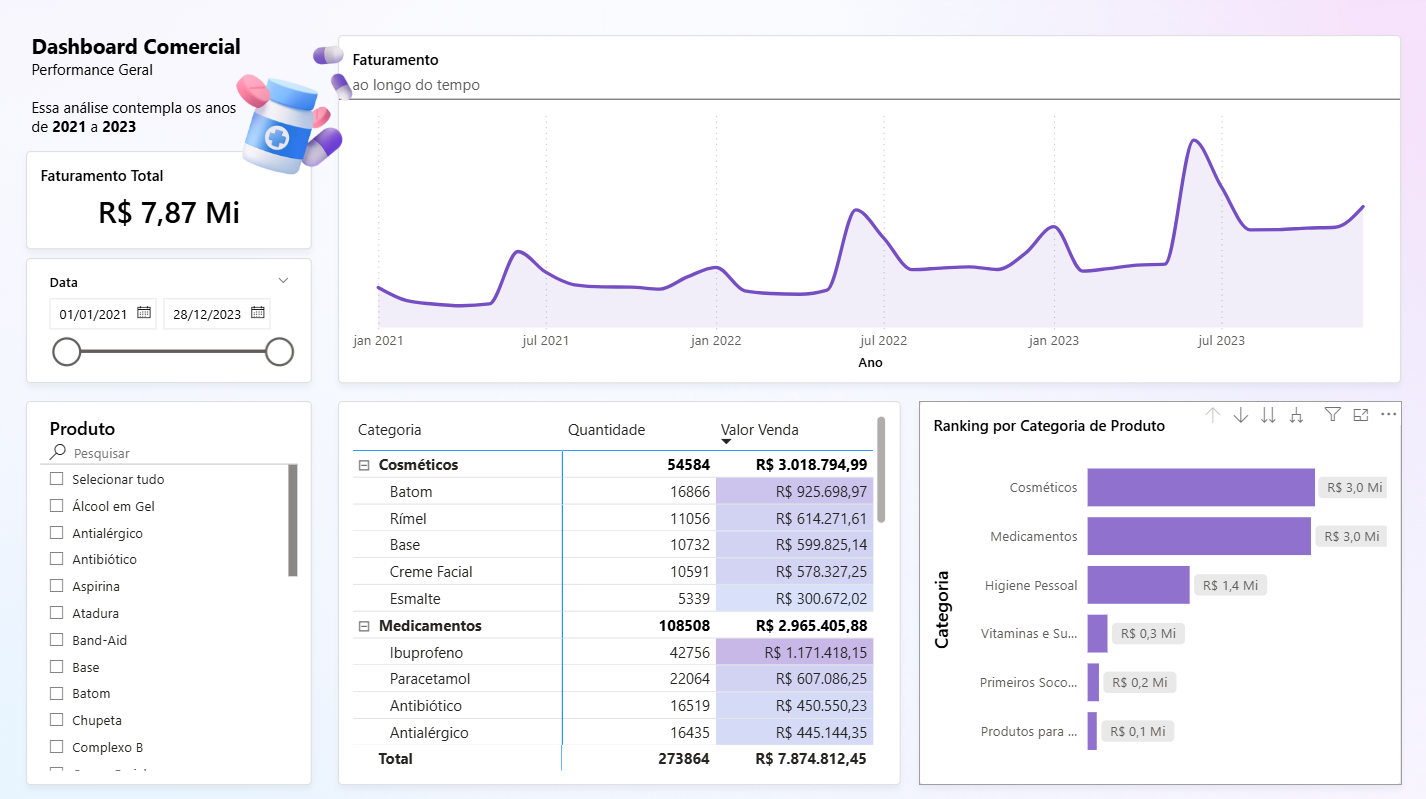

What the dashboard file says about the page in this screenshot:
{"tool":"powerbi","page":{"name":"Página 1","canvas":[1280,720],"ordinal":0},"visuals":[{"type":"card","title":"Faturamento Total","fields":{"Values":["Sum(Vendas.Valor Venda)"]},"box":[24,136,256,88],"z":0},{"type":"lineChart","title":"Faturamento","fields":{"Category":["Vendas.Data.Variation.Hierarquia de datas.Ano","Vendas.Data.Variation.Hierarquia de datas.Trimestre","Vendas.Data.Variation.Hierarquia de datas.Mês","Vendas.Data.Variation.Hierarquia de datas.Dia"],"Y":["Sum(Vendas.Valor Venda)"]},"box":[304,32,952,312],"z":1000},{"type":"barChart","title":"Ranking por Categoria de Produto","fields":{"Category":["Produtos.Categoria","Produtos.Produto"],"Y":["Sum(Vendas.Valor Venda)"]},"box":[824,360,432,344],"z":2000},{"type":"pivotTable","fields":{"Rows":["Produtos.Categoria","Produtos.Produto"],"Values":["Sum(Vendas.Quantidade)","Sum(Vendas.Valor Venda)"]},"box":[304,360,504,344],"z":3000},{"type":"slicer","fields":{"Values":["Vendas.Data"]},"box":[24,232,256,112],"z":3001},{"type":"slicer","fields":{"Values":["Produtos.Produto"]},"box":[24,360,256,344],"z":3002},{"type":"image","box":[208,40,112,120],"z":3003},{"type":"textbox","box":[24,24,208,104],"z":3004}]}

Visuals, with their boxes in screenshot pixels (x1, y1, x2, y2), scaled from the page's 1280x720 canvas onto the 1426x799 screenshot:
"Faturamento Total" card: <region>27, 151, 312, 249</region>
"Faturamento" lineChart: <region>339, 36, 1399, 382</region>
"Ranking por Categoria de Produto" barChart: <region>918, 400, 1399, 781</region>
pivotTable - Produtos.Categoria x Produtos.Produto: <region>339, 400, 900, 781</region>
slicer - Vendas.Data: <region>27, 257, 312, 382</region>
slicer - Produtos.Produto: <region>27, 400, 312, 781</region>
image: <region>232, 44, 356, 178</region>
textbox: <region>27, 27, 258, 142</region>
